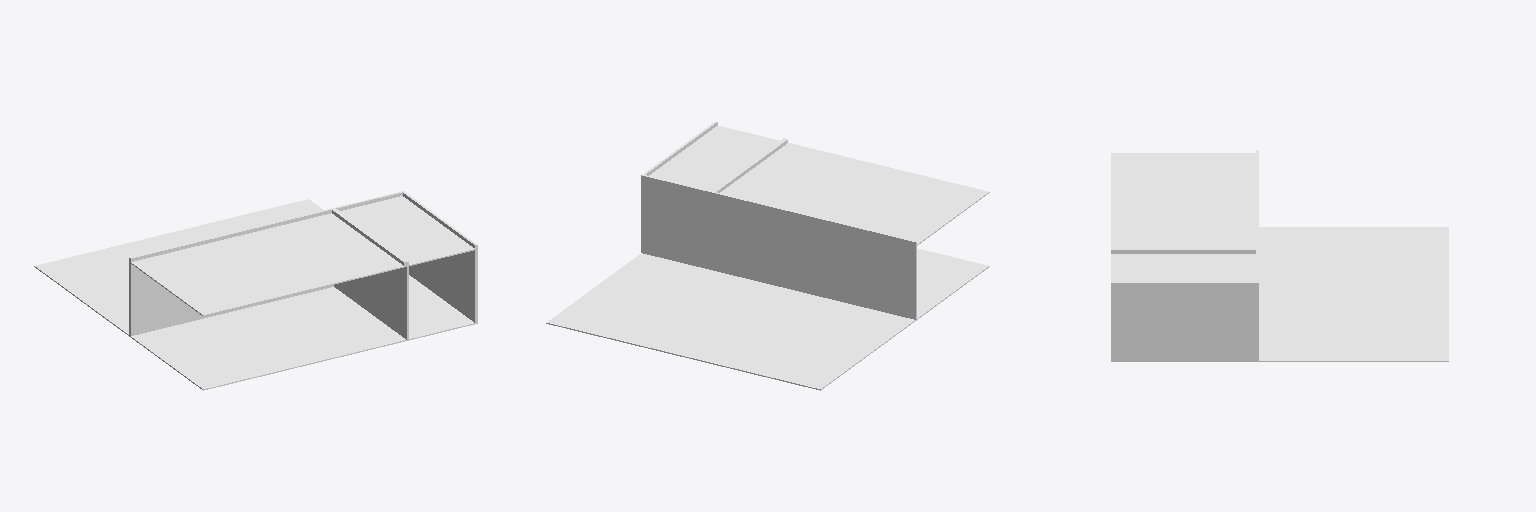
File: ExtraBuildings2B.obj
3 renders of one model, left to right at view 1: azimuth 30°, elevation 25°; view 2: azimuth 150°, elevation 25°; view 3: azimuth 270°, elevation 25°, orthographic.
Visible parts, largest first — view 1: object 1; view 2: object 1; view 3: object 1.
Part boxes in pixels (left/top/right/bottom): object 1: left=34, top=191, right=477, bottom=390; object 1: left=546, top=121, right=989, bottom=390; object 1: left=1111, top=150, right=1448, bottom=361.
Size of the model in its own units: 24 by 6.6 by 25.6.